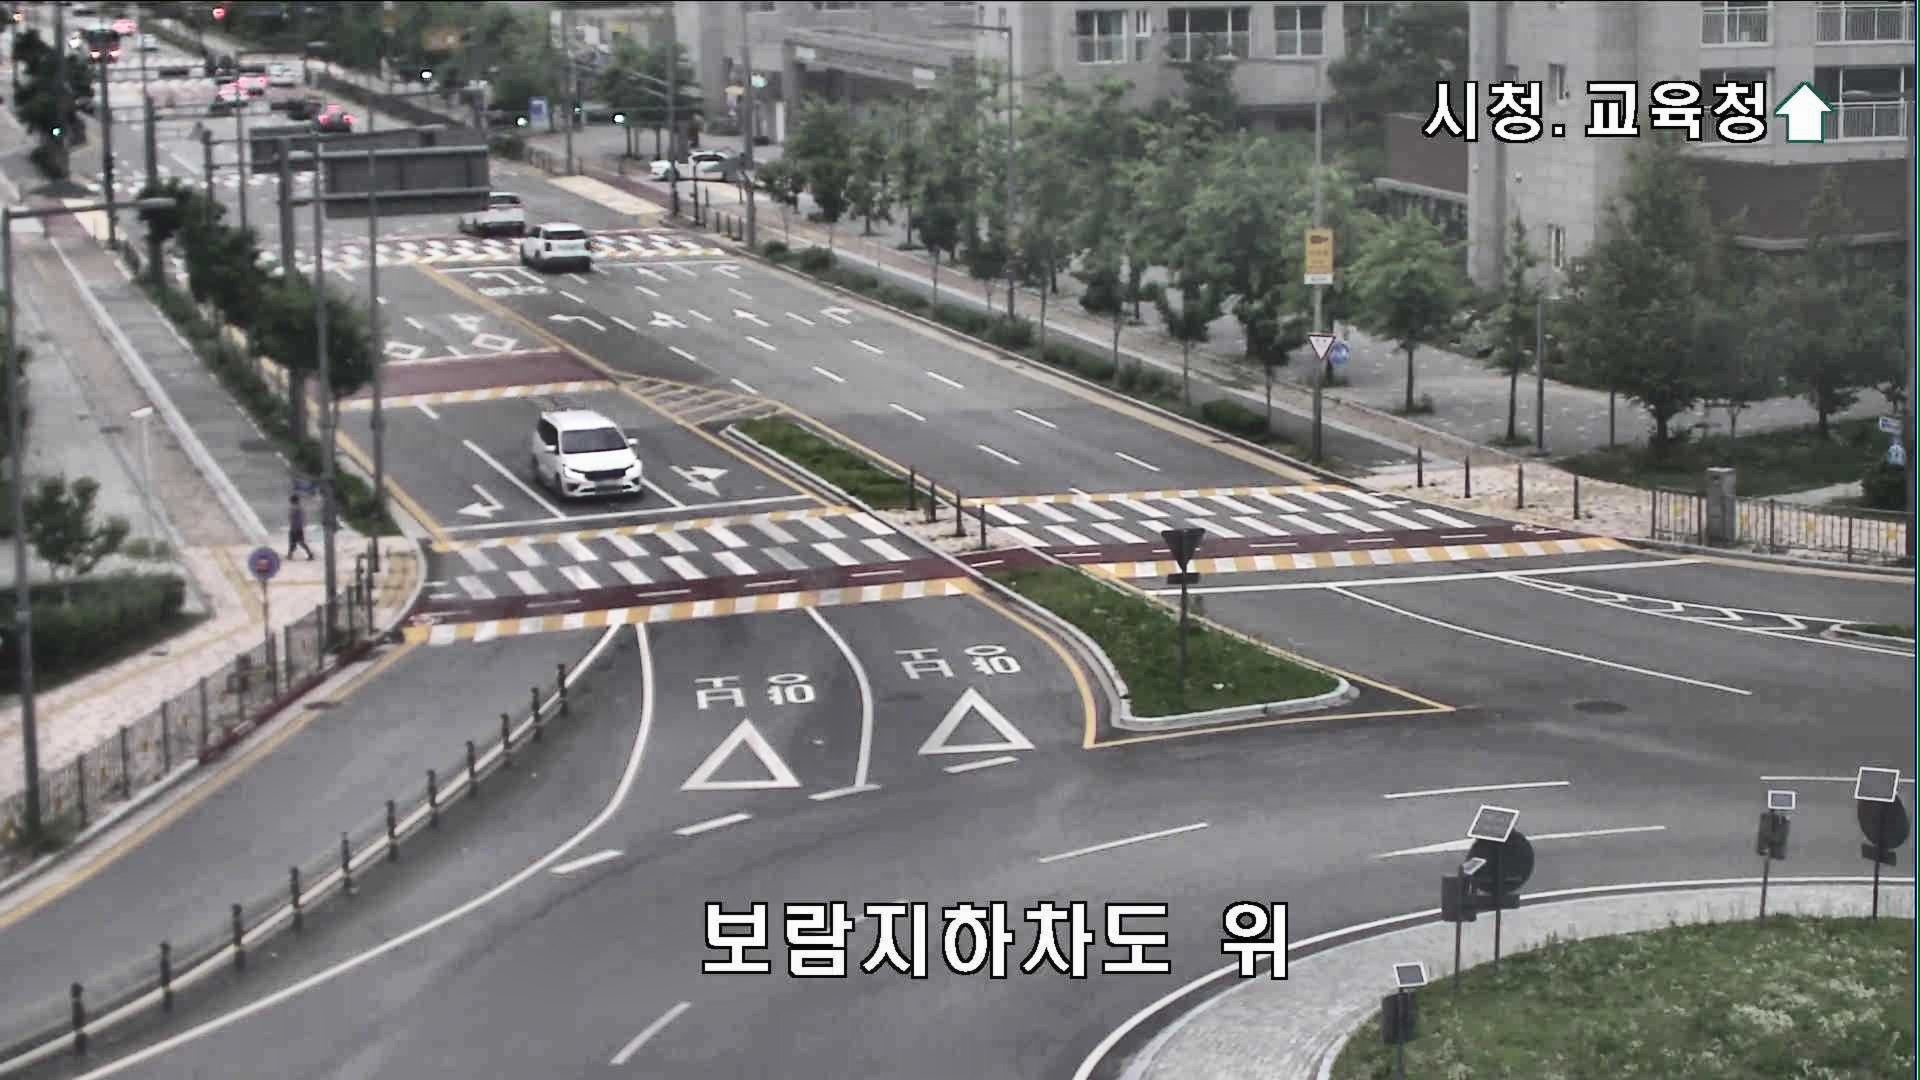sidewalk: (282, 489, 315, 562)
